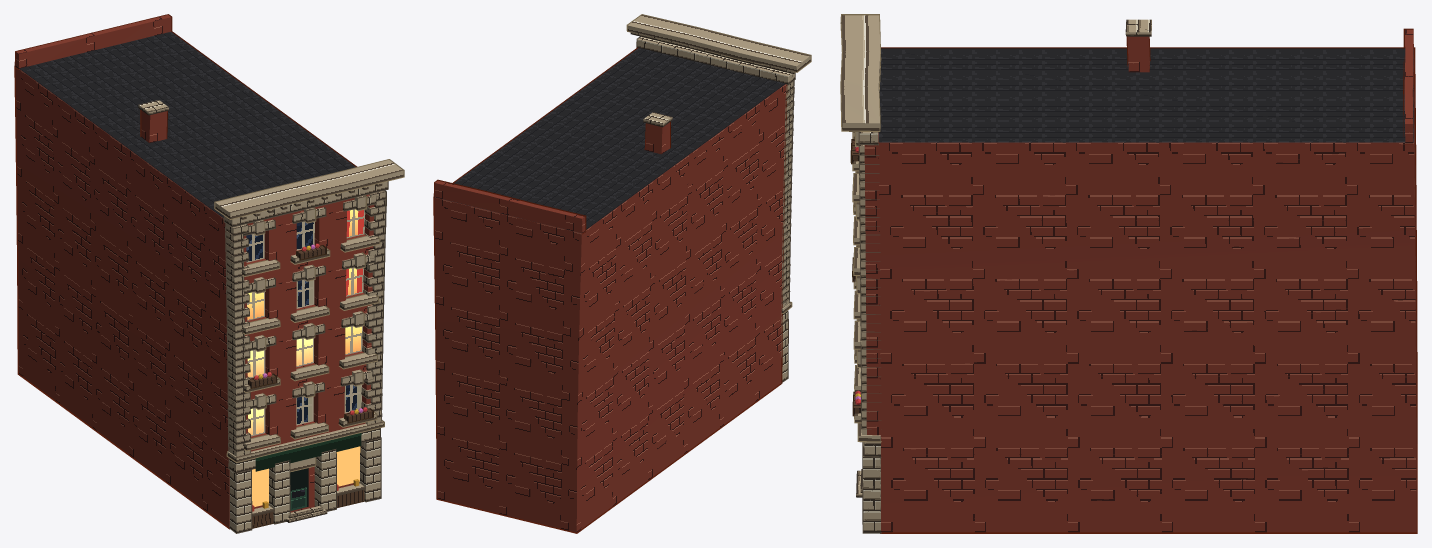
The model's file is Haus_bar_4.glb.
The picture shows the model from 3 angles, left to right: view 1: azimuth 30°, elevation 25°; view 2: azimuth 150°, elevation 25°; view 3: azimuth 270°, elevation 25°; orthographic projection. The views are drawn at different scales.
Parts seen in each view (by area): view 1: Haus_bar_4; view 2: Haus_bar_4; view 3: Haus_bar_4.
Part boxes in pixels (box(x1,y1,x2,y2)): Haus_bar_4: box(14, 14, 404, 533); Haus_bar_4: box(433, 14, 811, 533); Haus_bar_4: box(840, 14, 1417, 533).
Bounding box in the file's own units: 11 × 20.51 × 24.7.
Materials: 19 (9 with a texture image).
